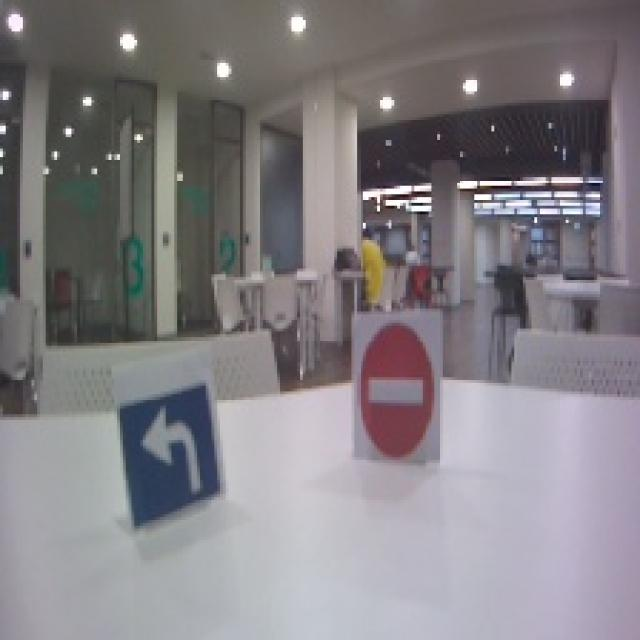DoNotEnterSign: (358, 320, 439, 462)
